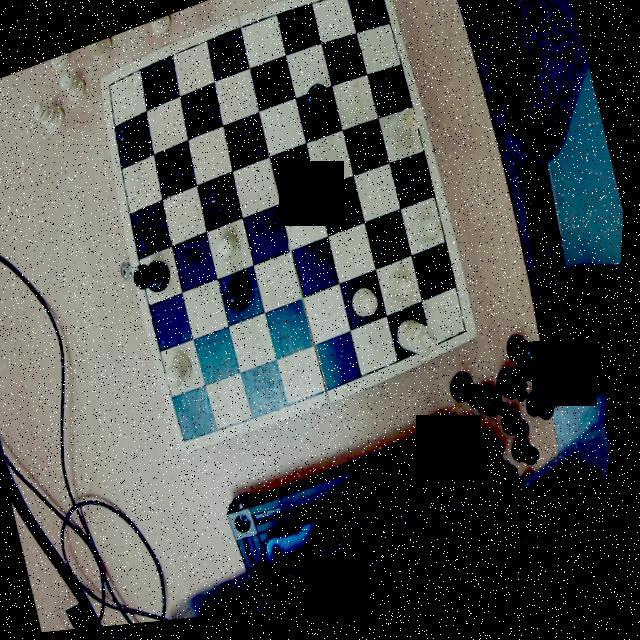chess-table-corners: (178, 426, 206, 456), (454, 326, 481, 356), (102, 71, 125, 98), (367, 0, 391, 11)
